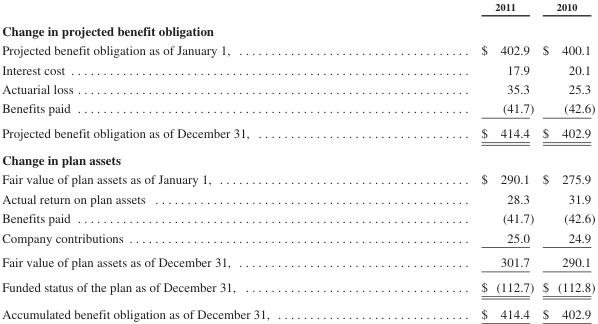table: (1, 0, 594, 320)
table column: (1, 0, 374, 320), (374, 0, 537, 320), (537, 0, 594, 320)
table column header: (1, 0, 594, 17)
table projected row header: (1, 145, 594, 169), (1, 17, 594, 40)
table row: (1, 273, 594, 299), (1, 120, 594, 145), (1, 145, 594, 169), (1, 249, 594, 273), (1, 17, 594, 40), (1, 98, 594, 120), (1, 227, 594, 249), (1, 299, 594, 320), (1, 78, 594, 98), (1, 188, 594, 208), (1, 40, 594, 59), (1, 59, 594, 78), (1, 169, 594, 188), (1, 208, 594, 227), (1, 0, 594, 17)
